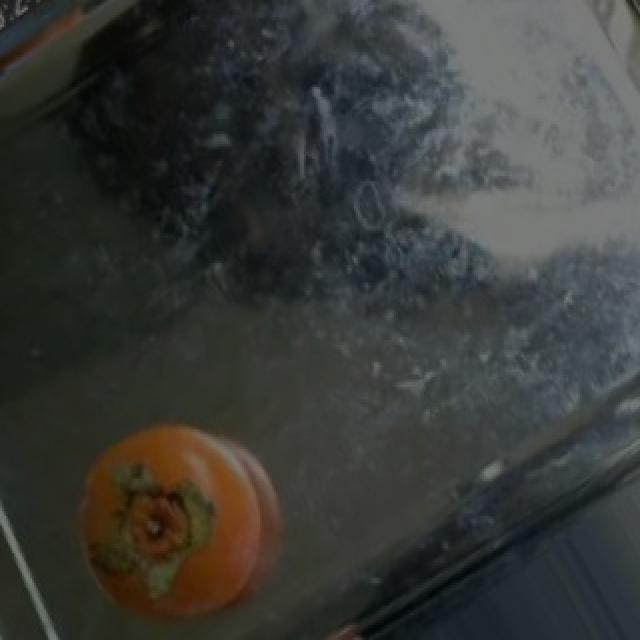Fruit: (50, 397, 292, 635)
